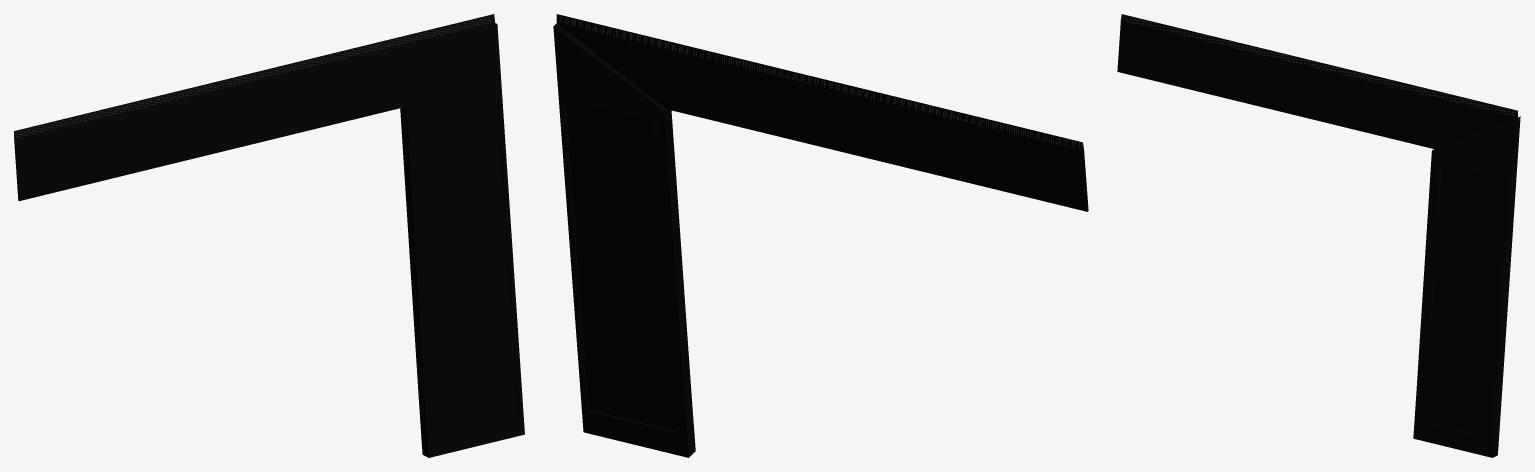
3 views of the same model, side by side, from view 1: azimuth 30°, elevation 25°; view 2: azimuth 150°, elevation 25°; view 3: azimuth 330°, elevation 25° (orthographic). The views are drawn at different scales.
Visible parts, largest first — view 1: 方尺; view 2: 方尺; view 3: 方尺.
Part boxes in pixels (x1,y1,x2,y2): 方尺: (14,14,524,457); 方尺: (553,14,1088,457); 方尺: (1117,14,1520,457).
Bounding box in the file's own units: 0.4454 × 0.3541 × 0.0545.
Materials: 2 (1 with a texture image).
